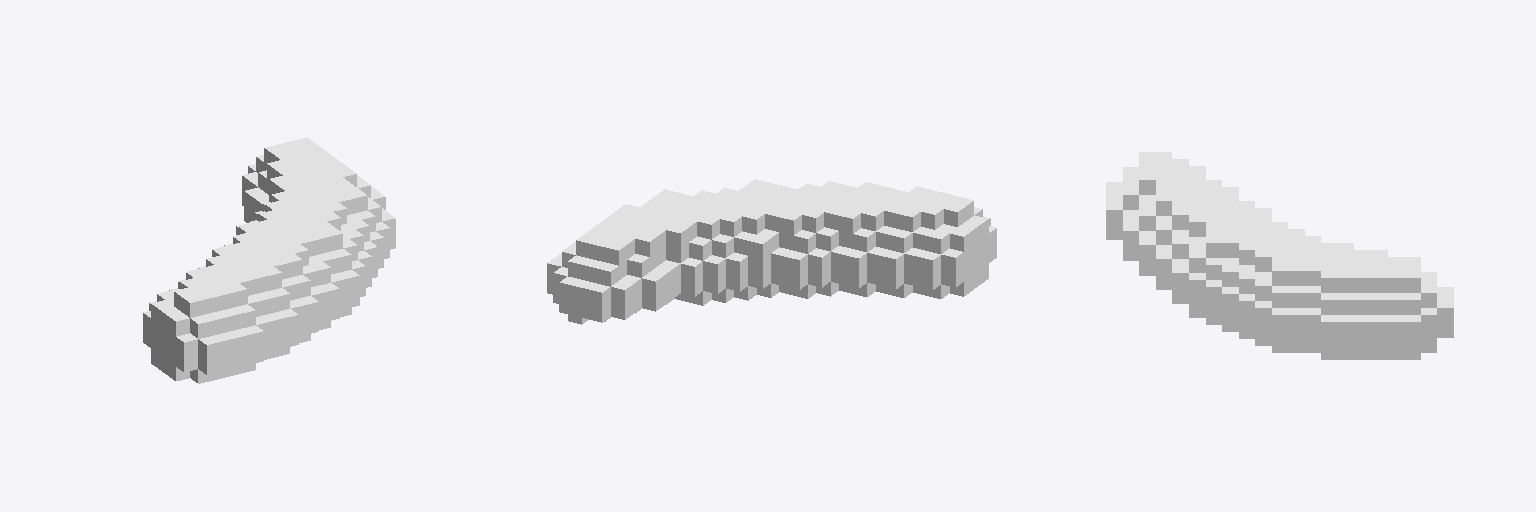
File: sausage.obj
3 renders of one model, left to right at view 1: azimuth 30°, elevation 25°; view 2: azimuth 150°, elevation 25°; view 3: azimuth 270°, elevation 25°, orthographic.
Visible parts, largest first — view 1: object 1; view 2: object 1; view 3: object 1.
Part boxes in pixels (left/top/right/bottom): object 1: left=143, top=137, right=395, bottom=383; object 1: left=547, top=179, right=996, bottom=324; object 1: left=1106, top=152, right=1453, bottom=359.
Size of the model in its own units: 2.1 by 0.5 by 2.1.